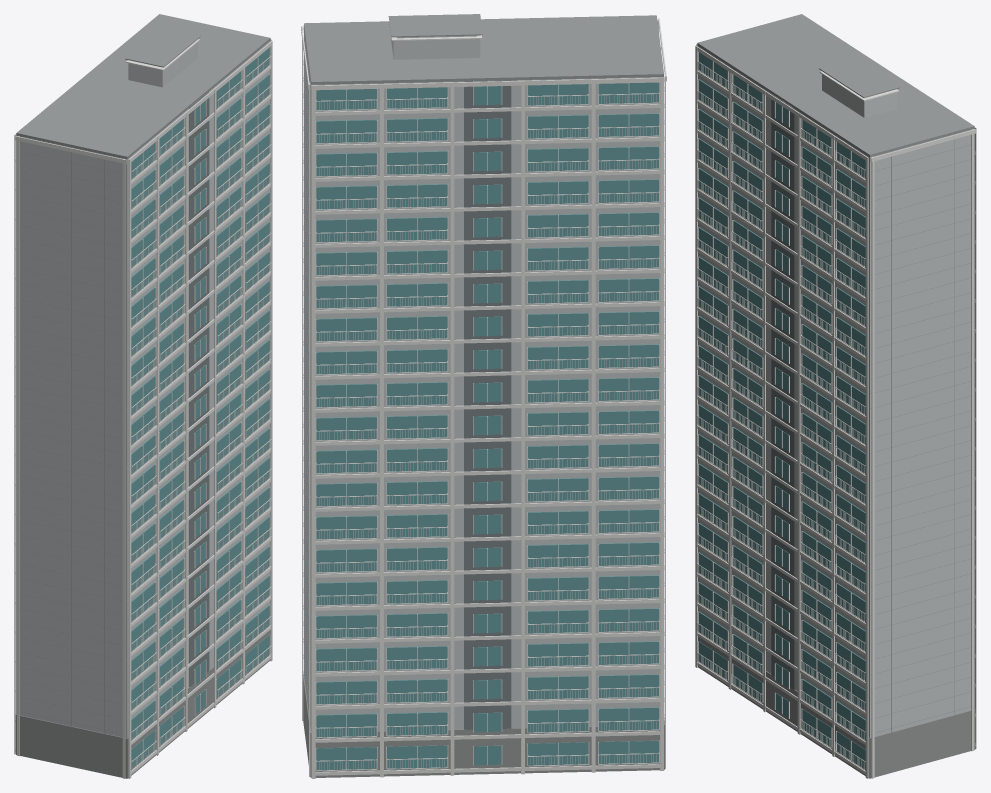
File: bespoke-jamsil-ricenz-234.glb
The picture shows the model from 3 angles, left to right: view 1: azimuth 30°, elevation 25°; view 2: azimuth 150°, elevation 25°; view 3: azimuth 270°, elevation 25°; orthographic projection. The views are drawn at different scales.
Parts seen in each view (by area): view 1: Ricenz234_editable_Ricenz234_light_grey_solid_wall, Ricenz234_editable_Ricenz234_turquoise_balcony_glazing, Ricenz234_white_exact_chunk_0, Ricenz234_editable_Ricenz234_modest_grey_flat_roof_caps, Ricenz234_white_exact_chunk_1, Ricenz234_editable_Ricenz234_narrow_charcoal_service_strips, Ricenz234_editable_Ricenz234_muted_ground_wall, Ricenz234_white_exact_chunk_2; view 2: Ricenz234_editable_Ricenz234_turquoise_balcony_glazing, Ricenz234_editable_Ricenz234_light_grey_solid_wall, Ricenz234_white_exact_chunk_2, Ricenz234_white_exact_chunk_1, Ricenz234_editable_Ricenz234_modest_grey_flat_roof_caps, Ricenz234_editable_Ricenz234_narrow_charcoal_service_strips, Ricenz234_editable_Ricenz234_muted_ground_wall, Ricenz234_white_exact_chunk_0; view 3: Ricenz234_editable_Ricenz234_light_grey_solid_wall, Ricenz234_editable_Ricenz234_turquoise_balcony_glazing, Ricenz234_white_exact_chunk_0, Ricenz234_white_exact_chunk_1, Ricenz234_editable_Ricenz234_modest_grey_flat_roof_caps, Ricenz234_editable_Ricenz234_narrow_charcoal_service_strips, Ricenz234_editable_Ricenz234_muted_ground_wall, Ricenz234_white_exact_chunk_2.
Part boxes in pixels (box(x1,y1,x2,y2)): Ricenz234_editable_Ricenz234_light_grey_solid_wall: box(16, 40, 270, 738); Ricenz234_editable_Ricenz234_turquoise_balcony_glazing: box(131, 47, 269, 768); Ricenz234_white_exact_chunk_0: box(15, 100, 243, 778); Ricenz234_editable_Ricenz234_modest_grey_flat_roof_caps: box(16, 14, 270, 734); Ricenz234_white_exact_chunk_1: box(128, 39, 272, 778); Ricenz234_editable_Ricenz234_narrow_charcoal_service_strips: box(189, 92, 209, 686); Ricenz234_editable_Ricenz234_muted_ground_wall: box(15, 625, 270, 778); Ricenz234_white_exact_chunk_2: box(14, 39, 199, 754); Ricenz234_editable_Ricenz234_turquoise_balcony_glazing: box(316, 82, 659, 770); Ricenz234_editable_Ricenz234_light_grey_solid_wall: box(304, 28, 663, 732); Ricenz234_white_exact_chunk_2: box(311, 35, 664, 778); Ricenz234_white_exact_chunk_1: box(301, 25, 450, 776); Ricenz234_editable_Ricenz234_modest_grey_flat_roof_caps: box(303, 14, 664, 727); Ricenz234_editable_Ricenz234_narrow_charcoal_service_strips: box(464, 80, 511, 729); Ricenz234_editable_Ricenz234_muted_ground_wall: box(303, 674, 664, 777); Ricenz234_white_exact_chunk_0: box(657, 18, 666, 768); Ricenz234_editable_Ricenz234_light_grey_solid_wall: box(697, 45, 974, 737); Ricenz234_editable_Ricenz234_turquoise_balcony_glazing: box(698, 52, 865, 769); Ricenz234_white_exact_chunk_0: box(696, 44, 832, 752); Ricenz234_white_exact_chunk_1: box(695, 45, 975, 778); Ricenz234_editable_Ricenz234_modest_grey_flat_roof_caps: box(697, 14, 974, 732); Ricenz234_editable_Ricenz234_narrow_charcoal_service_strips: box(771, 94, 794, 689); Ricenz234_editable_Ricenz234_muted_ground_wall: box(698, 632, 975, 778); Ricenz234_white_exact_chunk_2: box(819, 71, 976, 748).
Bounding box in the file's own units: 31.28 × 65.96 × 26.08.
